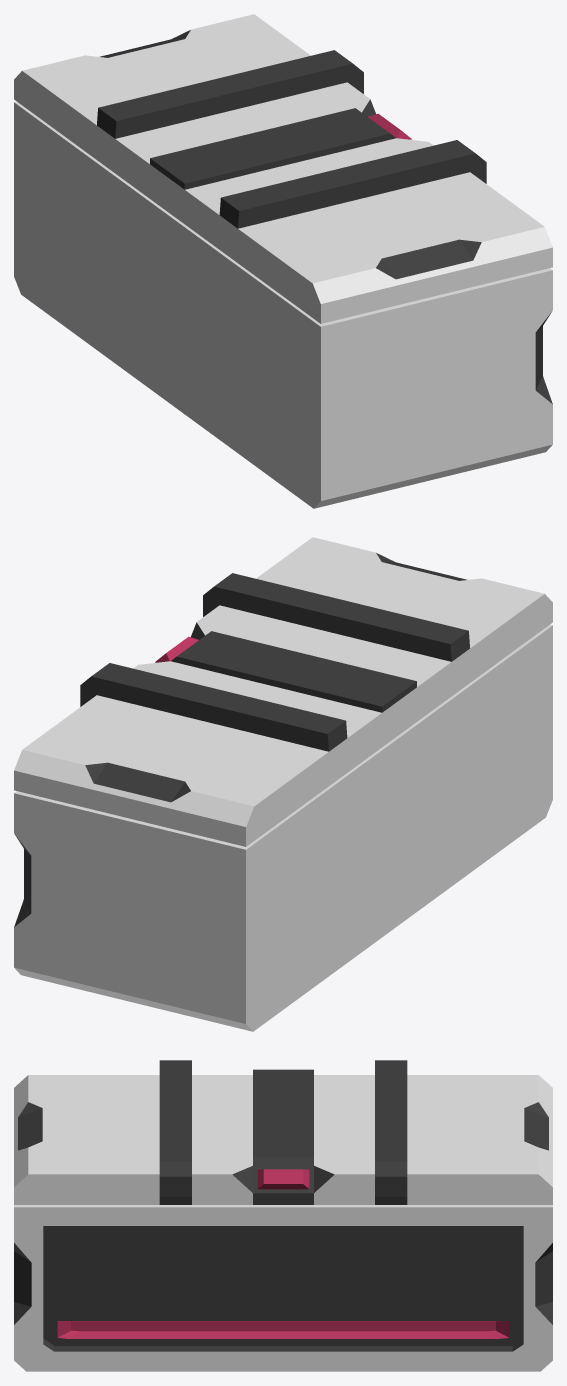
File: Chesy.fbx
3 views of the same model, one above another, from view 1: azimuth 30°, elevation 25°; view 2: azimuth 150°, elevation 25°; view 3: azimuth 270°, elevation 25° (orthographic). The views are drawn at different scales.
Visible parts, largest first — view 1: chest, Chest lid; view 2: chest, Chest lid; view 3: chest, Chest lid.
Part boxes in pixels (x1,y1,x2,y2): chest: (14,101,552,508); Chest lid: (14,14,552,323); chest: (14,624,552,1031); Chest lid: (14,537,552,846); chest: (14,1205,552,1371); Chest lid: (14,1060,552,1204).
Size of the model in its own units: 214 by 199 by 458.
